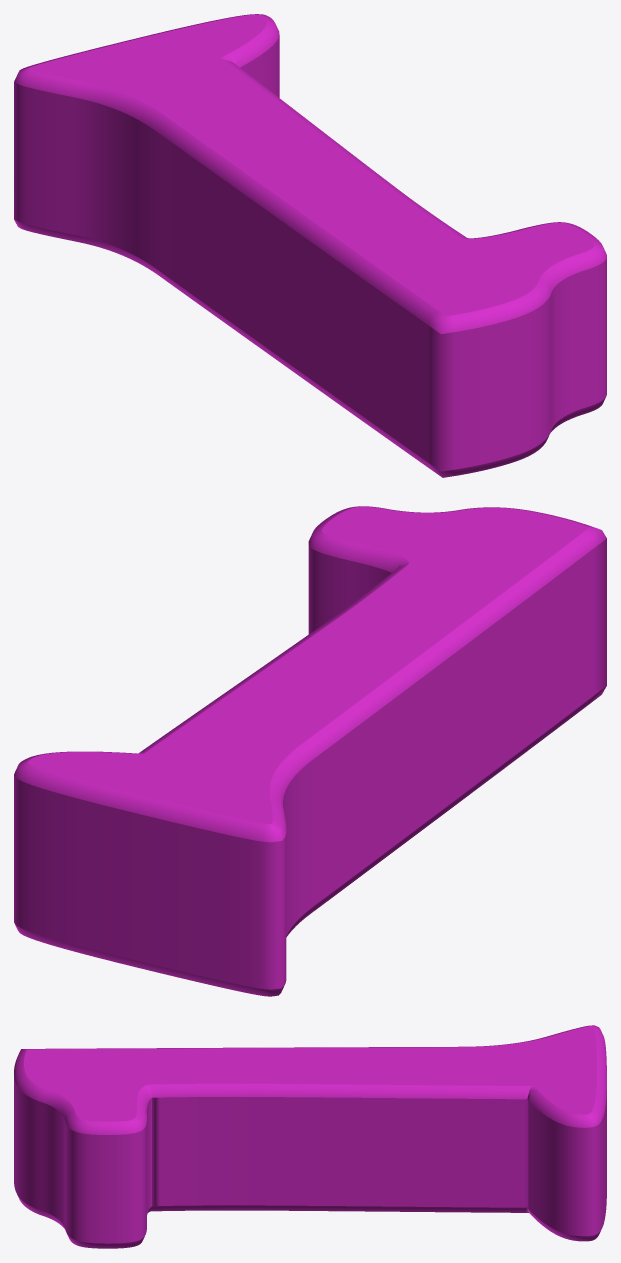
The model's file is Bubble_Number1.fbx.
3 renders of one model, top to bottom at view 1: azimuth 30°, elevation 25°; view 2: azimuth 150°, elevation 25°; view 3: azimuth 270°, elevation 25°, orthographic. The views are drawn at different scales.
Visible parts, largest first — view 1: BubbleNumber_1; view 2: BubbleNumber_1; view 3: BubbleNumber_1.
Part boxes in pixels (x1,y1,x2,y2): BubbleNumber_1: (14,14,606,477); BubbleNumber_1: (14,506,606,996); BubbleNumber_1: (14,1025,606,1248).
Bounding box in the file's own units: 0.2482 × 0.14 × 0.5945.
